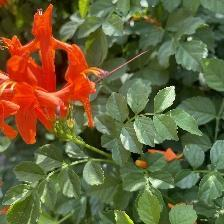honeysuckle: (49, 46, 106, 125)
